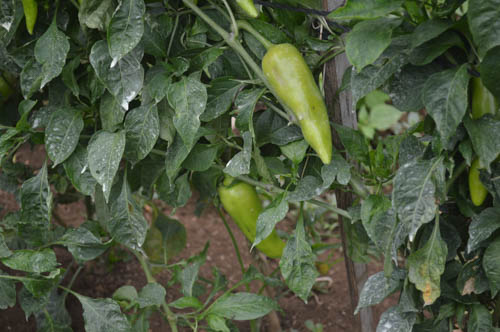ChiliPepper: (261, 42, 332, 166), (219, 181, 290, 260)
